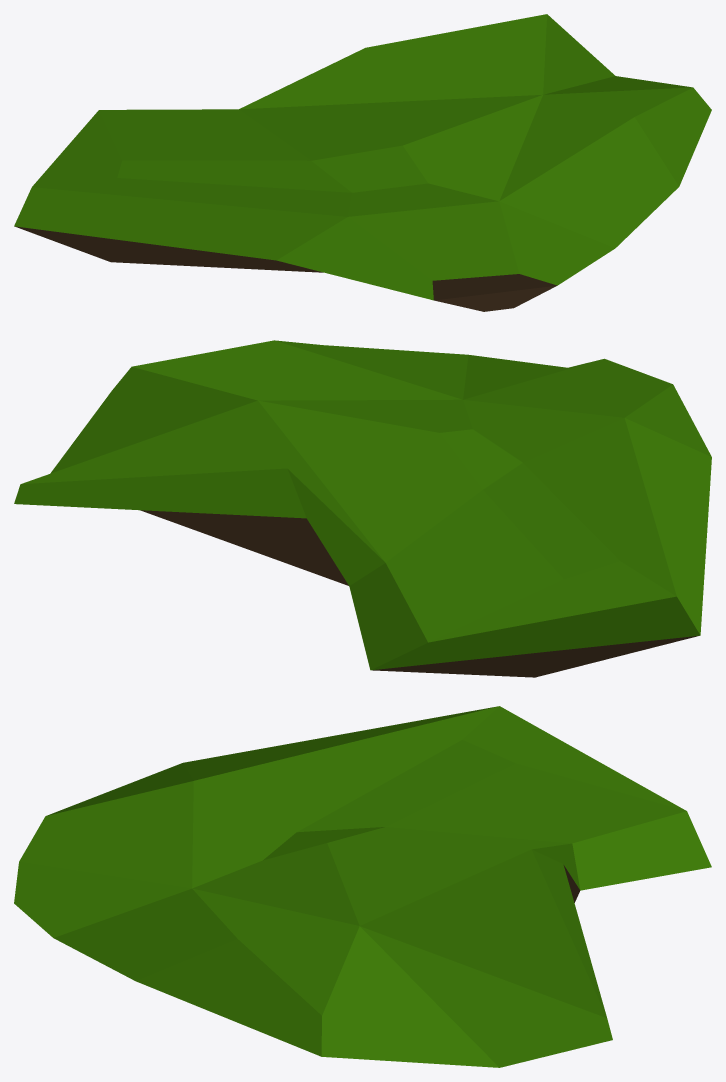
Rendered from Ground_7.glb.
The picture shows the model from 3 angles, top to bottom: view 1: azimuth 30°, elevation 25°; view 2: azimuth 150°, elevation 25°; view 3: azimuth 270°, elevation 25°; orthographic projection. The views are drawn at different scales.
Parts seen in each view (by area): view 1: Ground_07; view 2: Ground_07; view 3: Ground_07.
Boxes of the visible parts, x1,y1,x2,y2 form: Ground_07: (14,14,711,311); Ground_07: (14,340,711,677); Ground_07: (14,706,711,1067).
Size of the model in its own units: 6.79 by 1.52 by 5.77.
